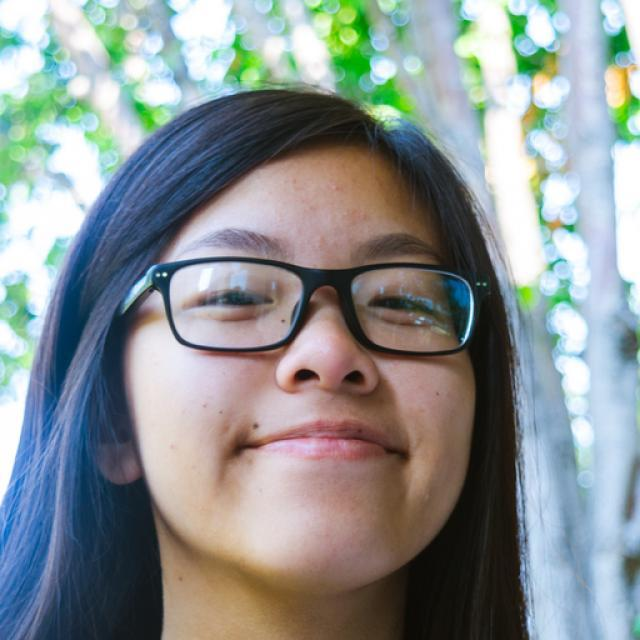happy: (128, 145, 478, 586)
